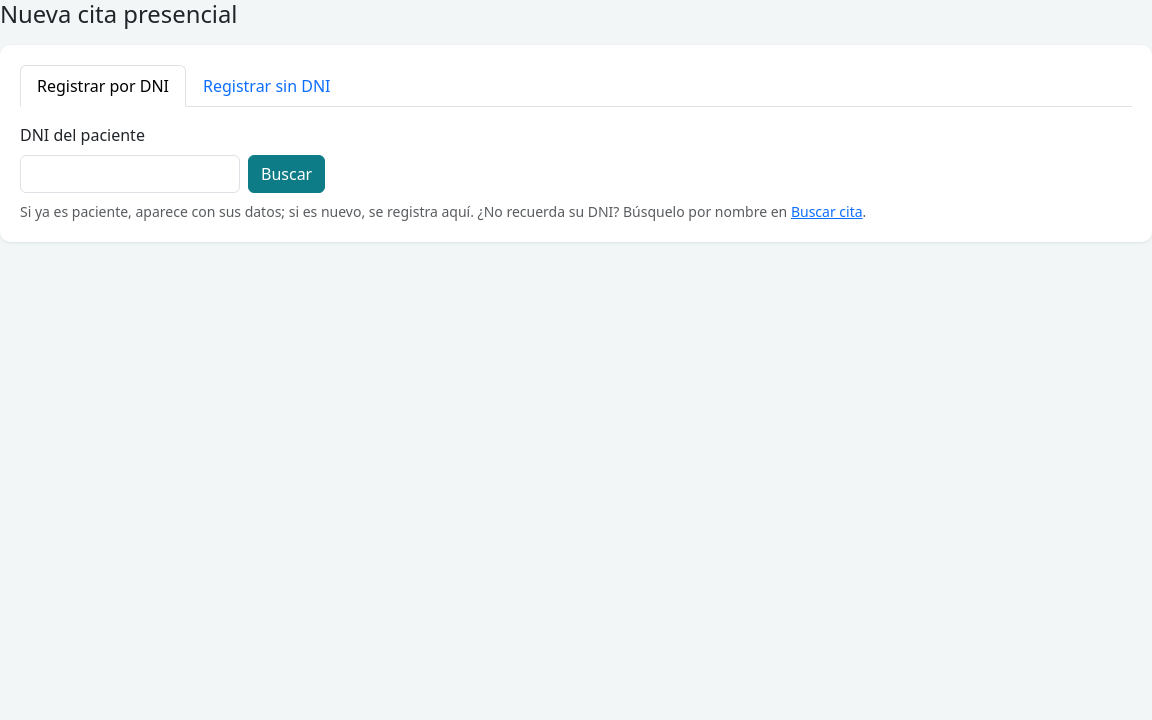
Test case: NuevaCita presencial (CU-06) › flujo básico: busca por DNI y muestra al paciente con el formulario de reserva
The image size is (1152, 720).
Type "72458190" into the field labelled "DNI del paciente" at x=130, y=174, box [20,155,240,193]
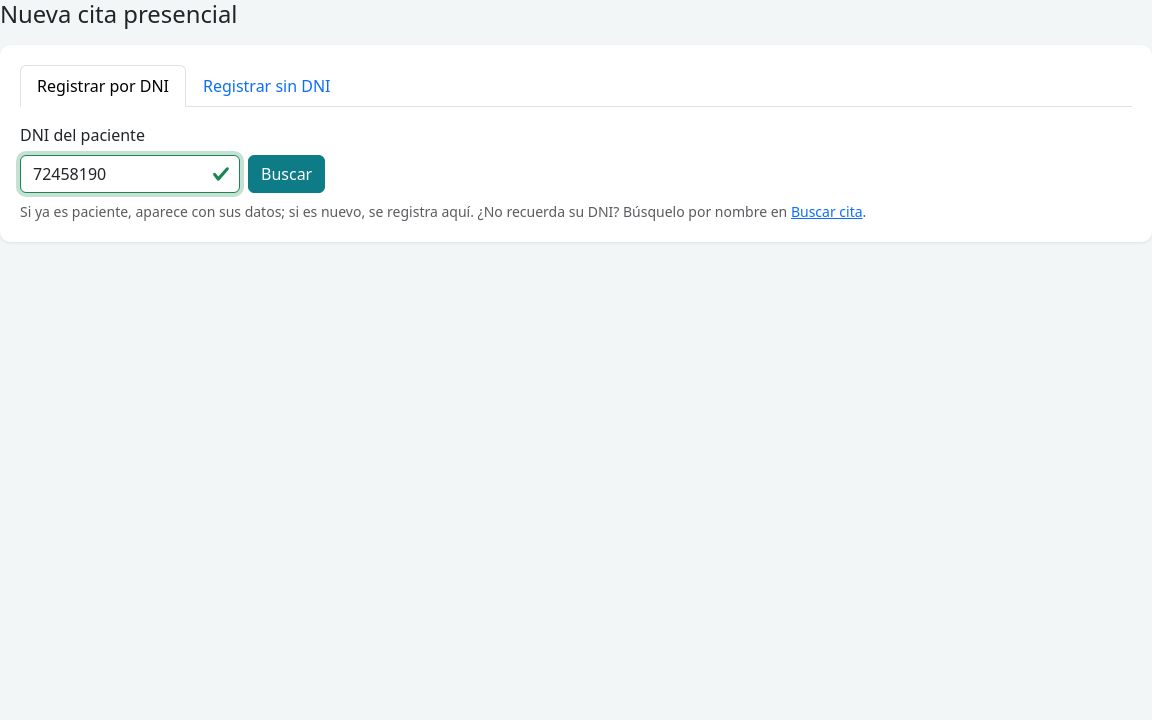
Click the button "Buscar" at x=287, y=174, box [248,155,325,193]
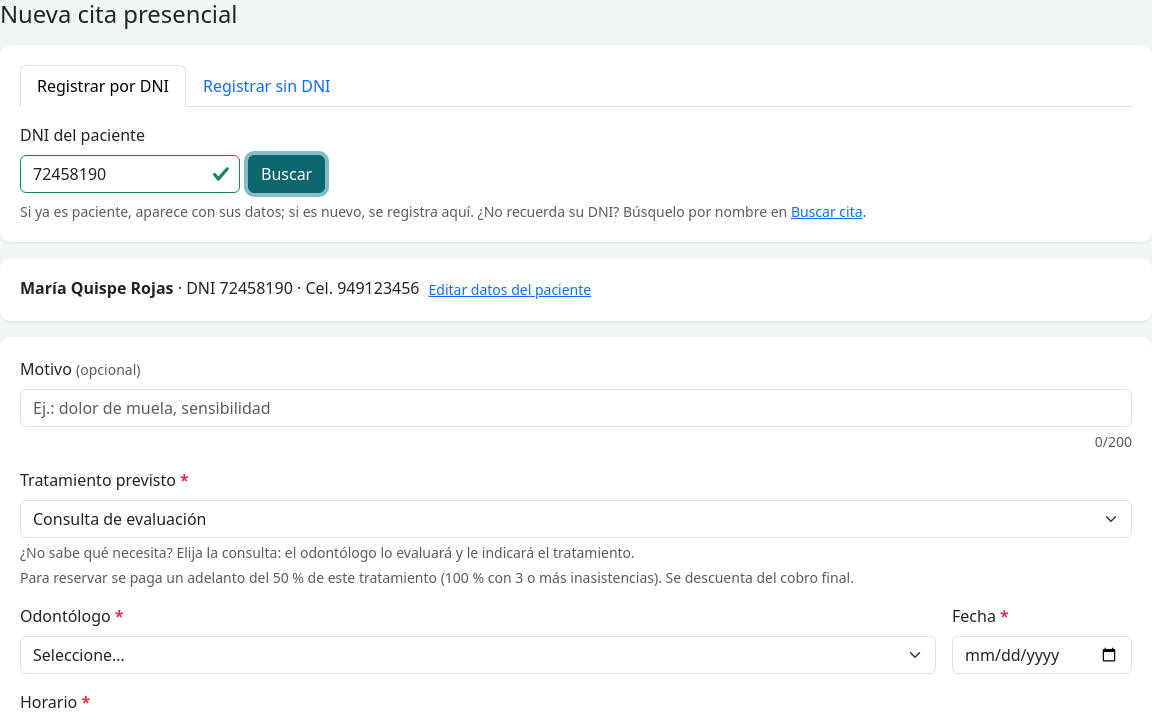
Expected: the text "María Quispe Rojas" is shown, [20,276,174,298]
Expected: the field labelled "Motivo (opcional)" is shown, [20,389,1132,427]
